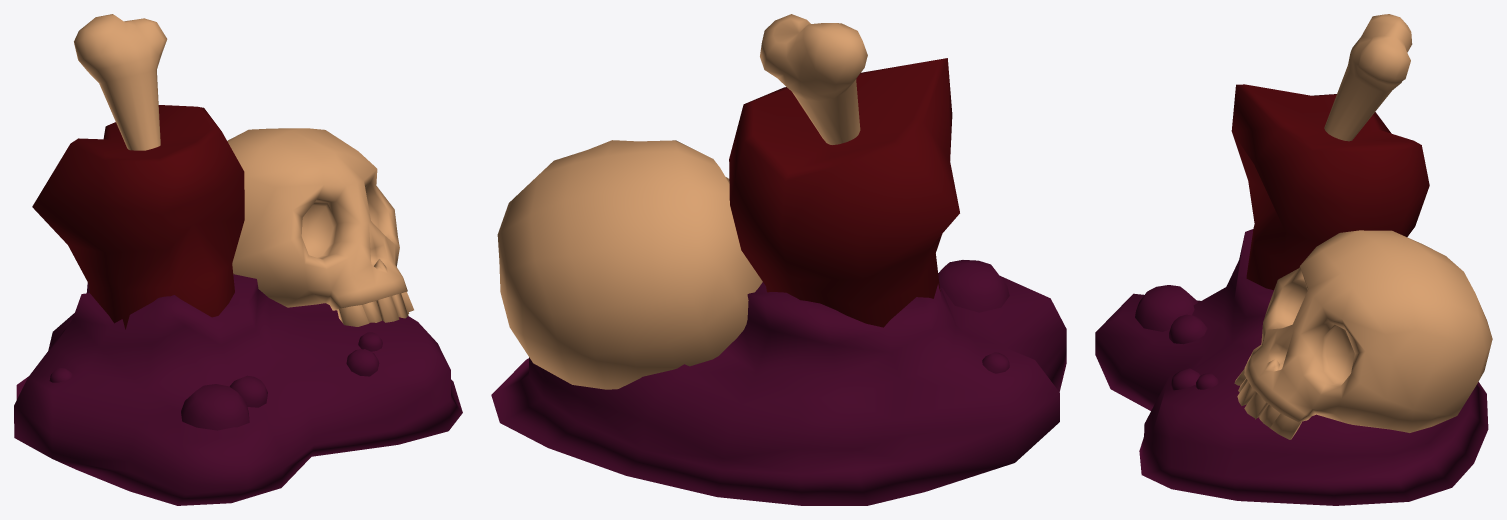
Rendered from zombie_core.FBX.
3 views of the same model, side by side, from view 1: azimuth 30°, elevation 25°; view 2: azimuth 150°, elevation 25°; view 3: azimuth 270°, elevation 25° (orthographic). The views are drawn at different scales.
Parts seen in each view (by area): view 1: zombie_core_dororich, zombie_core_meat, zombie_core_skull, zombie_core_bone; view 2: zombie_core_dororich, zombie_core_skull, zombie_core_meat, zombie_core_bone; view 3: zombie_core_dororich, zombie_core_skull, zombie_core_meat, zombie_core_bone.
Part boxes in pixels (x1,y1,x2,y2): zombie_core_dororich: (14, 274, 462, 505); zombie_core_meat: (32, 105, 244, 329); zombie_core_skull: (227, 128, 413, 326); zombie_core_bone: (74, 14, 167, 150); zombie_core_dororich: (491, 260, 1066, 505); zombie_core_skull: (497, 140, 762, 389); zombie_core_meat: (729, 58, 959, 327); zombie_core_bone: (760, 14, 867, 144); zombie_core_dororich: (1095, 229, 1488, 505); zombie_core_skull: (1234, 230, 1492, 439); zombie_core_meat: (1231, 84, 1429, 290); zombie_core_bone: (1324, 14, 1412, 141).
Size of the model in its own units: 55.17 by 48.11 by 48.7.
